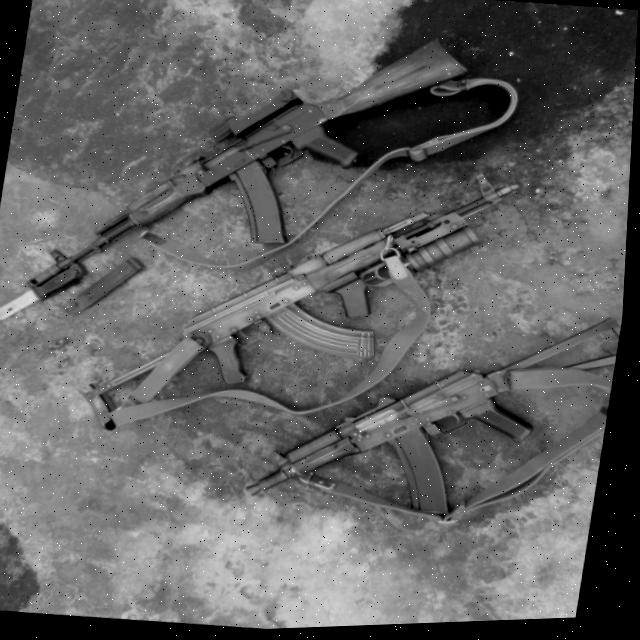firearm: (81, 136, 527, 468), (33, 0, 473, 326), (247, 286, 627, 535)
knife: (0, 238, 88, 340)
